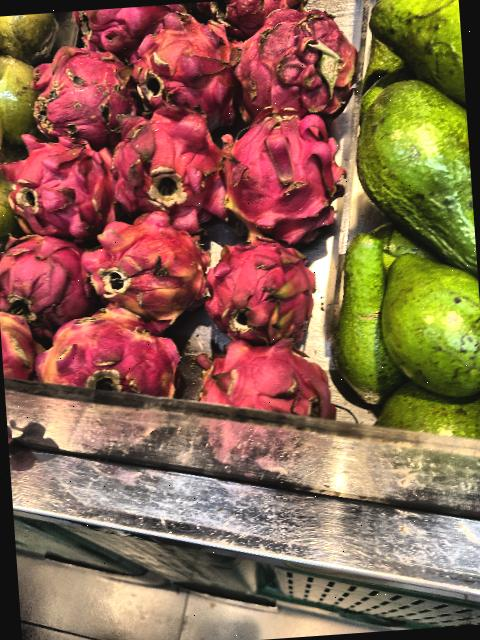buah-naga-belum-matang: (32, 300, 187, 420), (218, 112, 351, 246), (80, 211, 208, 328), (123, 12, 252, 128), (0, 306, 48, 396)
buah-naga-matang: (230, 0, 359, 122), (104, 114, 238, 229), (188, 334, 340, 434), (0, 120, 113, 243), (203, 228, 322, 340), (25, 28, 134, 146), (0, 227, 93, 325)
